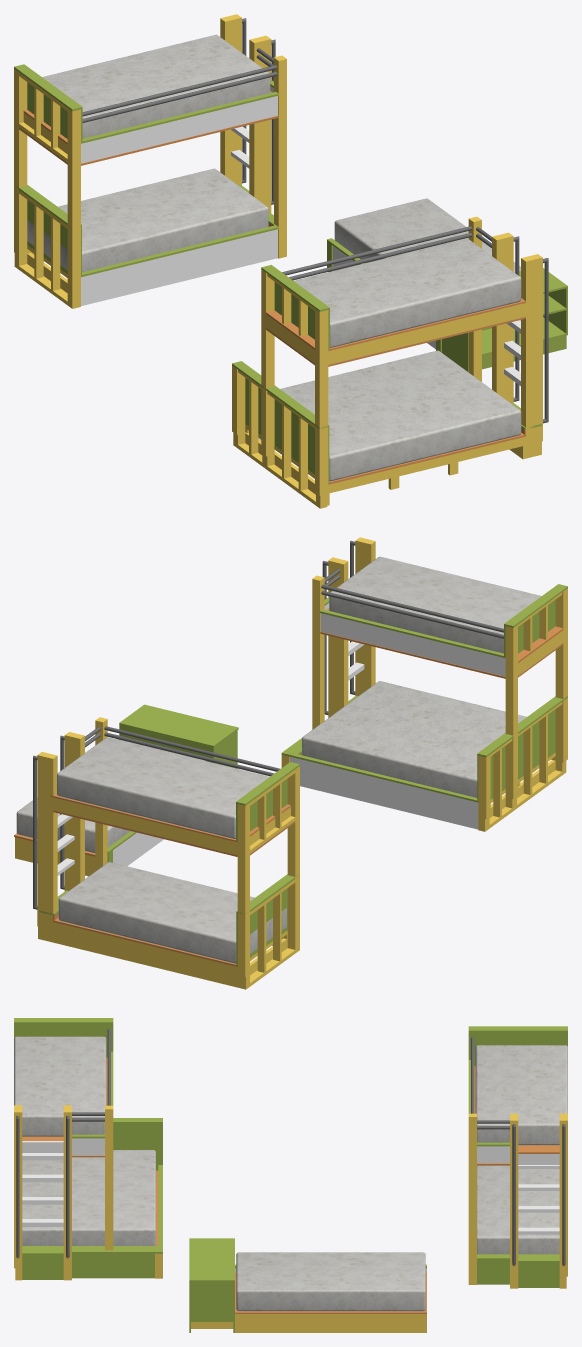
File: bunks-a.glb
3 views of the same model, one above another, from view 1: azimuth 30°, elevation 25°; view 2: azimuth 150°, elevation 25°; view 3: azimuth 270°, elevation 25° (orthographic). The views are drawn at different scales.
Parts seen in each view (by area): view 1: queen-queen, twin-mattress, upper-mattress.001, upper-mattress, lower-rail-right-top, mattress-twin-xl, upper-rail-right, twin-rail-left, twin-bunk-leg-foot-right, bunk-leg-head-left, bunk-leg-foot-left, twin-bunk-leg-foot-left (+36 smaller); view 2: queen-queen, upper-mattress, upper-mattress.001, twin-mattress, queen-rail-right, twin-rail-right, foot-shelf-top, upper-rail-left, twin-bunk-leg-foot-left, lower-rail-right-bottom, bunk-leg-head-right, twin-ladder-leg-left.001 (+39 smaller); view 3: mattress-twin-xl, queen-queen, twin-mattress, upper-mattress, upper-mattress.001, rail-bottom-right, queen-rail-foot-right, foot-shelf-top, foot-shelf-right, twin-molding-head-front, twin-bunk-leg-head-right, queen-molding-head-front (+23 smaller).
Part boxes in pixels (left/top/right/bottom): queen-queen: left=280, top=350, right=521, bottom=481; twin-mattress: left=293, top=238, right=521, bottom=347; upper-mattress.001: left=27, top=168, right=268, bottom=272; upper-mattress: left=42, top=34, right=270, bottom=138; lower-rail-right-top: left=81, top=229, right=277, bottom=305; mattress-twin-xl: left=334, top=198, right=520, bottom=272; upper-rail-right: left=81, top=96, right=277, bottom=163; twin-rail-left: left=328, top=303, right=525, bottom=364; twin-bunk-leg-foot-right: left=67, top=108, right=80, bottom=308; bunk-leg-head-left: left=315, top=309, right=328, bottom=508; bunk-leg-foot-left: left=521, top=256, right=534, bottom=458; twin-bunk-leg-foot-left: left=14, top=69, right=27, bottom=269; queen-queen: left=302, top=681, right=526, bottom=797; upper-mattress: left=57, top=737, right=269, bottom=838; upper-mattress.001: left=58, top=862, right=286, bottom=963; twin-mattress: left=329, top=556, right=541, bottom=653; queen-rail-right: left=290, top=756, right=478, bottom=829; twin-rail-right: left=320, top=613, right=505, bottom=676; foot-shelf-top: left=119, top=704, right=238, bottom=747; upper-rail-left: left=53, top=797, right=237, bottom=855; twin-bunk-leg-foot-left: left=237, top=803, right=249, bottom=989; lower-rail-right-bottom: left=57, top=931, right=234, bottom=986; bunk-leg-head-right: left=505, top=625, right=517, bottom=811; twin-ladder-leg-left.001: left=45, top=754, right=57, bottom=942; mattress-twin-xl: left=236, top=1252, right=425, bottom=1311; queen-queen: left=22, top=1150, right=155, bottom=1245; twin-mattress: left=14, top=1036, right=106, bottom=1136; upper-mattress: left=475, top=1045, right=567, bottom=1145; upper-mattress.001: left=477, top=1165, right=559, bottom=1254; rail-bottom-right: left=235, top=1314, right=426, bottom=1332; queen-rail-foot-right: left=72, top=1253, right=154, bottom=1278; foot-shelf-top: left=189, top=1238, right=234, bottom=1281; foot-shelf-right: left=189, top=1282, right=233, bottom=1321; twin-molding-head-front: left=14, top=1021, right=113, bottom=1057; twin-bunk-leg-head-right: left=468, top=1113, right=476, bottom=1284; queen-molding-head-front: left=113, top=1123, right=162, bottom=1170.
Bounding box in the file's own units: 3.7 × 2.01 × 5.94.
17 materials, 3 textured.
